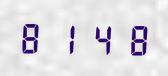eight: (18, 18, 49, 55), (114, 20, 145, 57)
four: (82, 19, 113, 56)
one: (50, 19, 81, 55)
